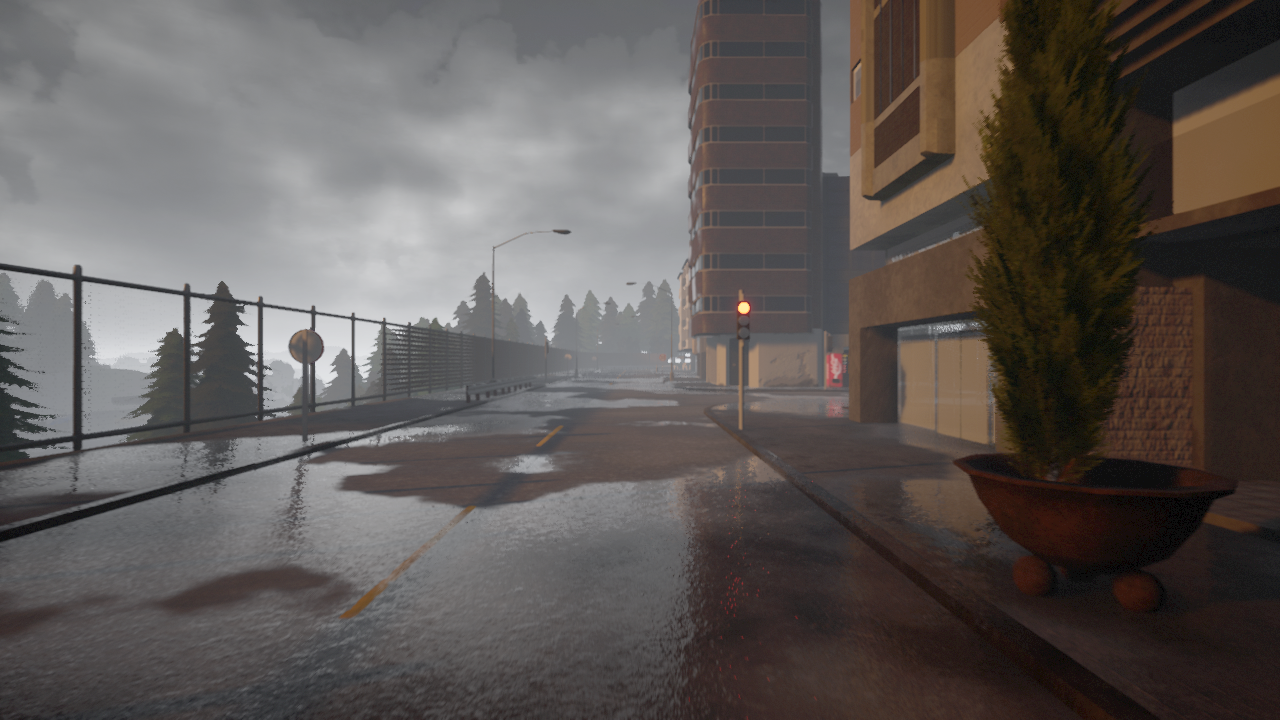red: (735, 301, 750, 342)
